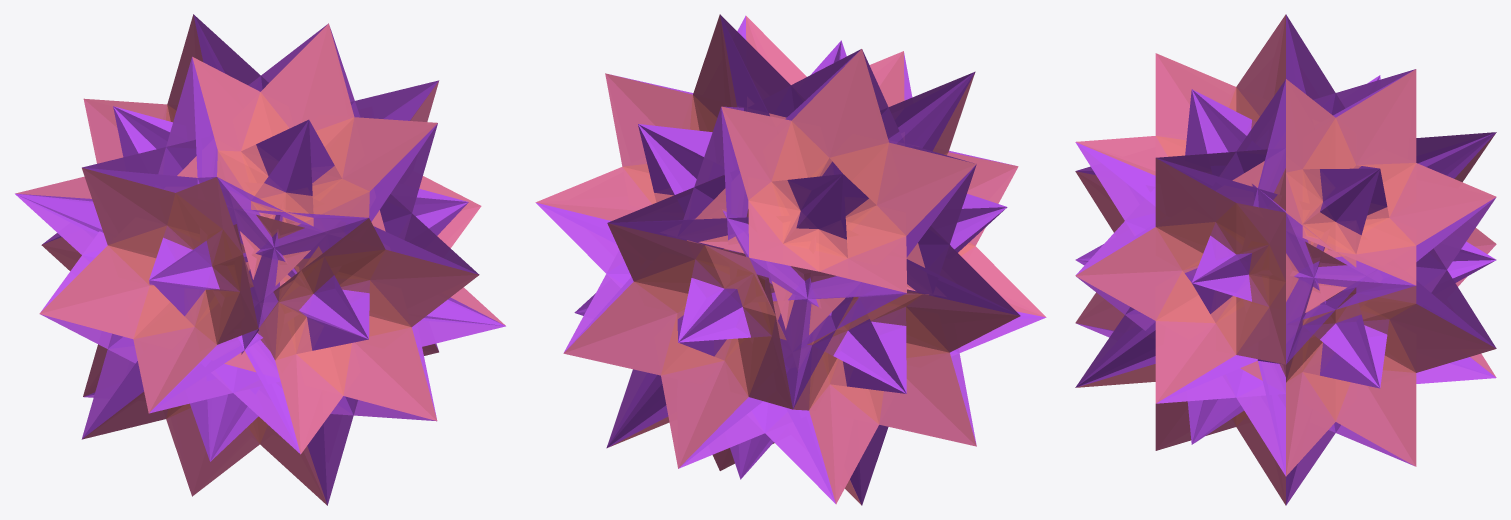
Rendered from 36_Dodekexcavated_Gid.obj.
3 renders of one model, left to right at view 1: azimuth 30°, elevation 25°; view 2: azimuth 150°, elevation 25°; view 3: azimuth 270°, elevation 25°, orthographic. The views are drawn at different scales.
Bounding box in the file's own units: 1.24 × 1.18 × 1.05.
